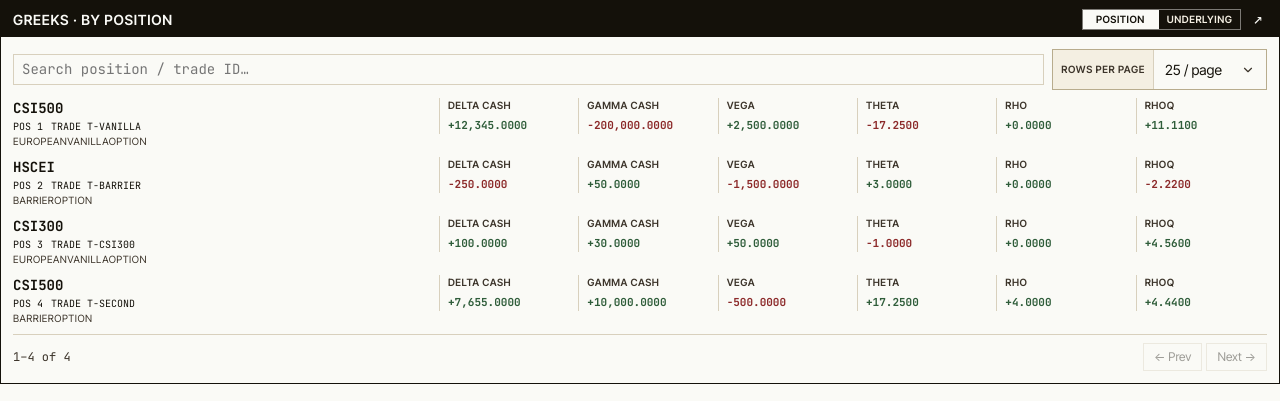
Test: GreeksByPosition › drills from an underlying row into filtered position rows
The width and height of the screenshot is (1280, 401).
What coordinates should you click on to do the following:
click the button "Underlying"
I would click on:
 (1200, 19)
Its box is [1159,10,1240,28].
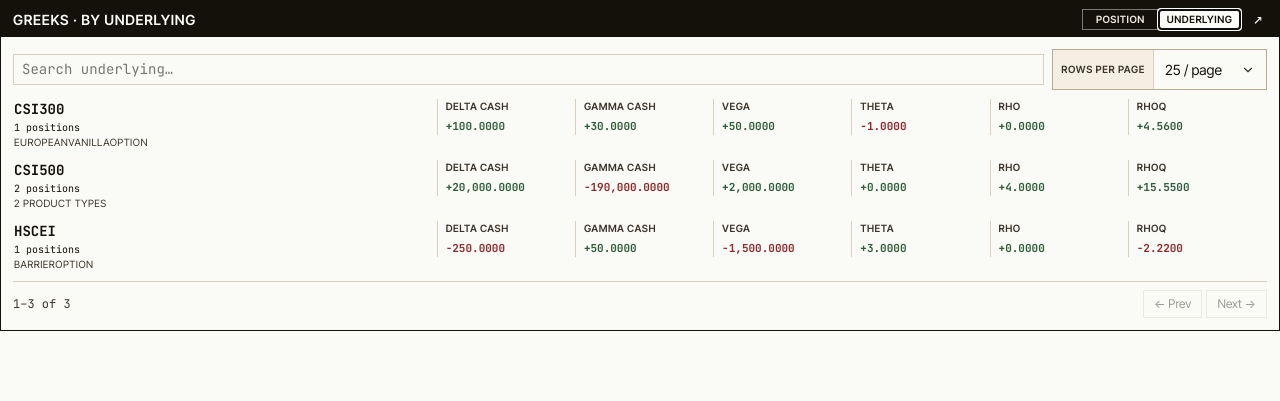
What coordinates should you click on to do the following:
click the button with aria-label "drill down to CSI500 positions"
I would click on:
 (636, 186)
Its box is [9,155,1263,216].
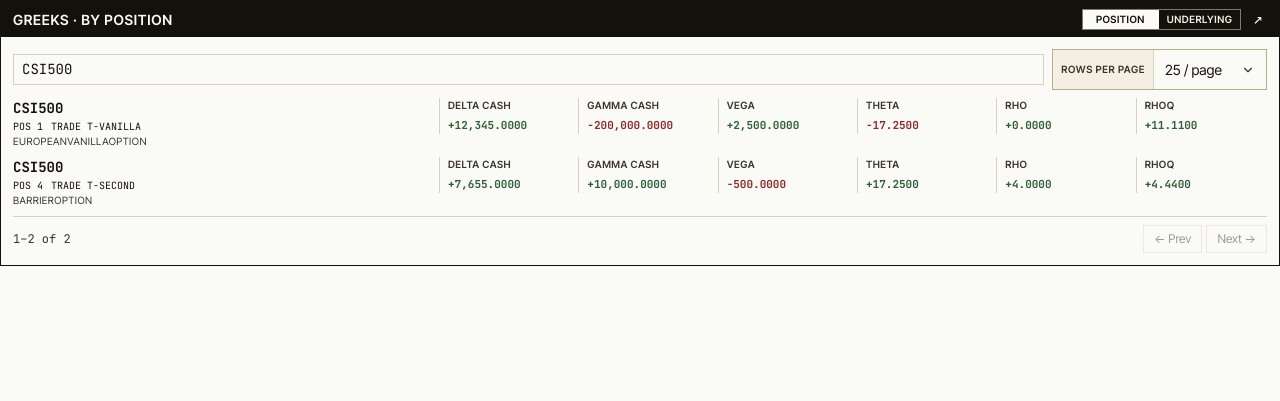
Check: the text "GREEKS · BY POSITION" is shown, box [13,10,173,28]
Check: the field showing "CSI500" is shown, box [13,54,1044,85]
Check: the text "CSI500" is shown 2 times, box [13,99,63,117]; [13,158,63,176]
